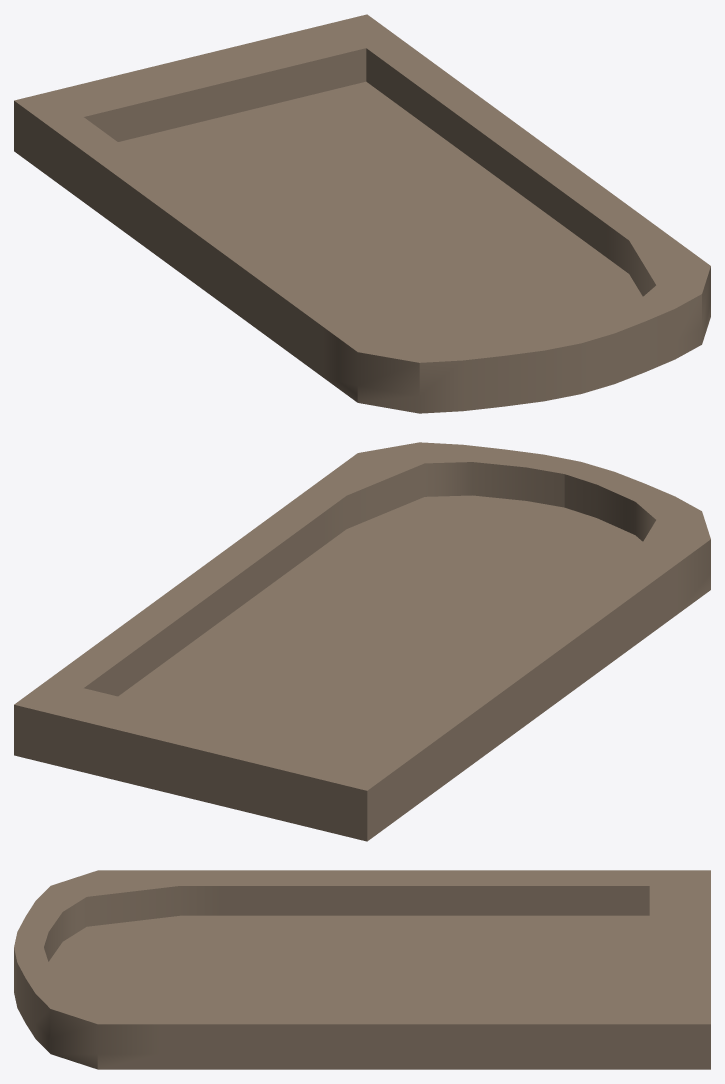
Rendered from Table.fbx.
3 renders of one model, top to bottom at view 1: azimuth 30°, elevation 25°; view 2: azimuth 150°, elevation 25°; view 3: azimuth 270°, elevation 25°, orthographic. The views are drawn at different scales.
Visible parts, largest first — view 1: pCube1; view 2: pCube1; view 3: pCube1.
Part boxes in pixels (x1,y1,x2,y2): pCube1: (14, 14, 710, 413); pCube1: (14, 442, 710, 841); pCube1: (14, 870, 710, 1069).
Size of the model in its own units: 3.34 by 0.4591 by 6.41.
